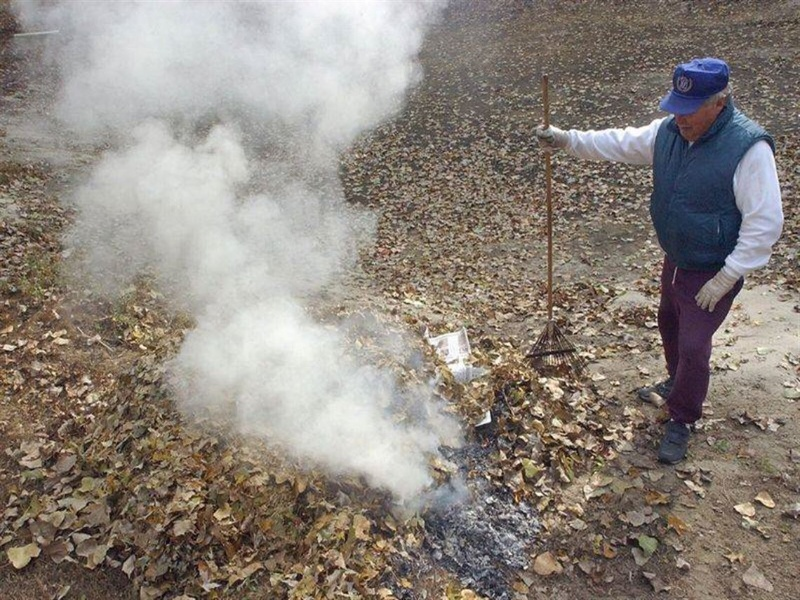smoke: (75, 1, 418, 475)
